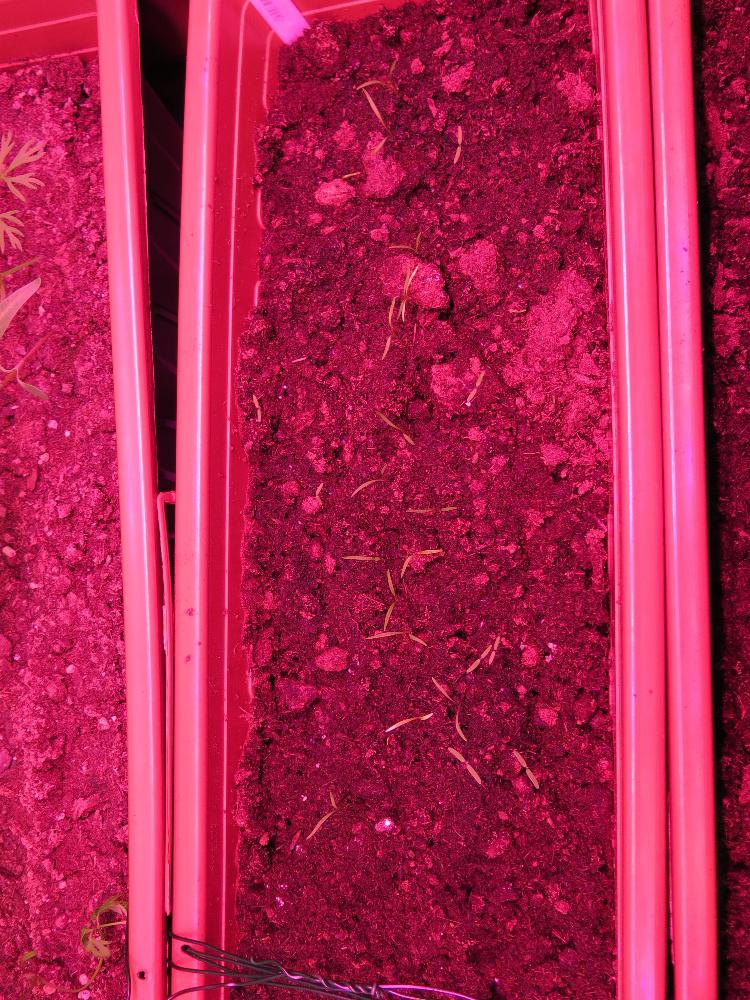weed: (446, 743, 481, 787), (510, 743, 539, 792), (451, 121, 461, 168)
